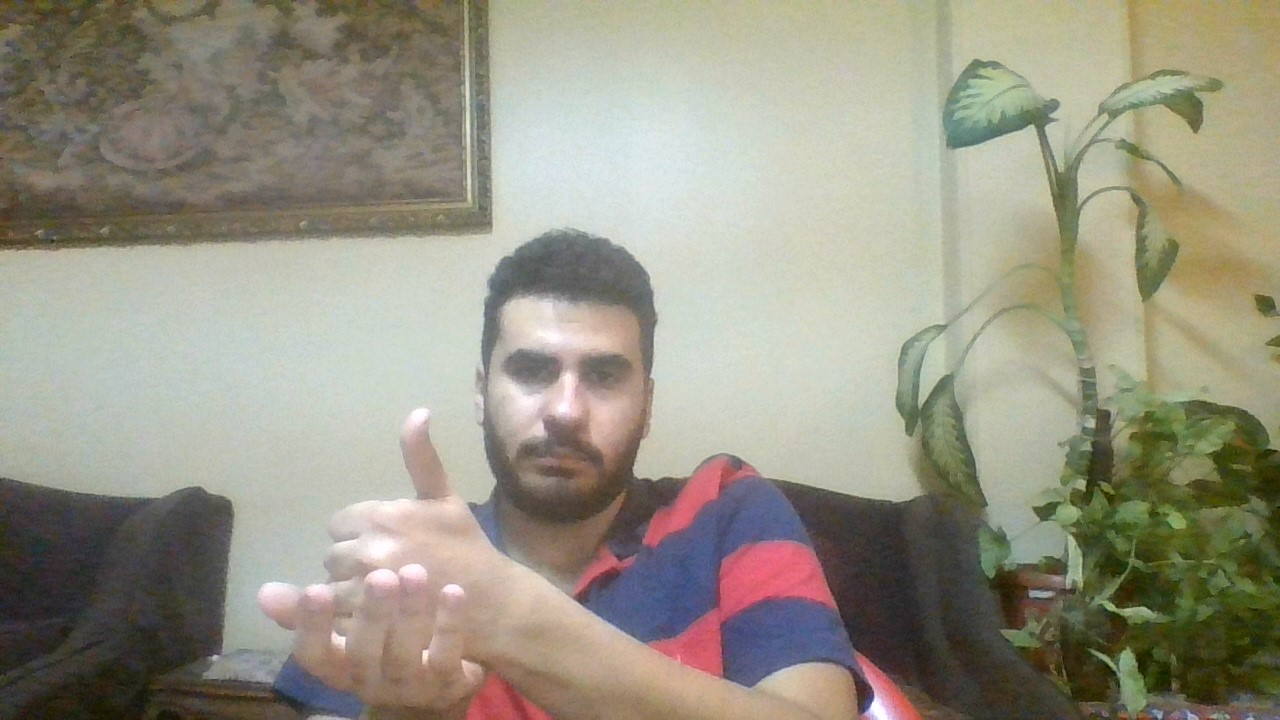help: (251, 398, 491, 697)
